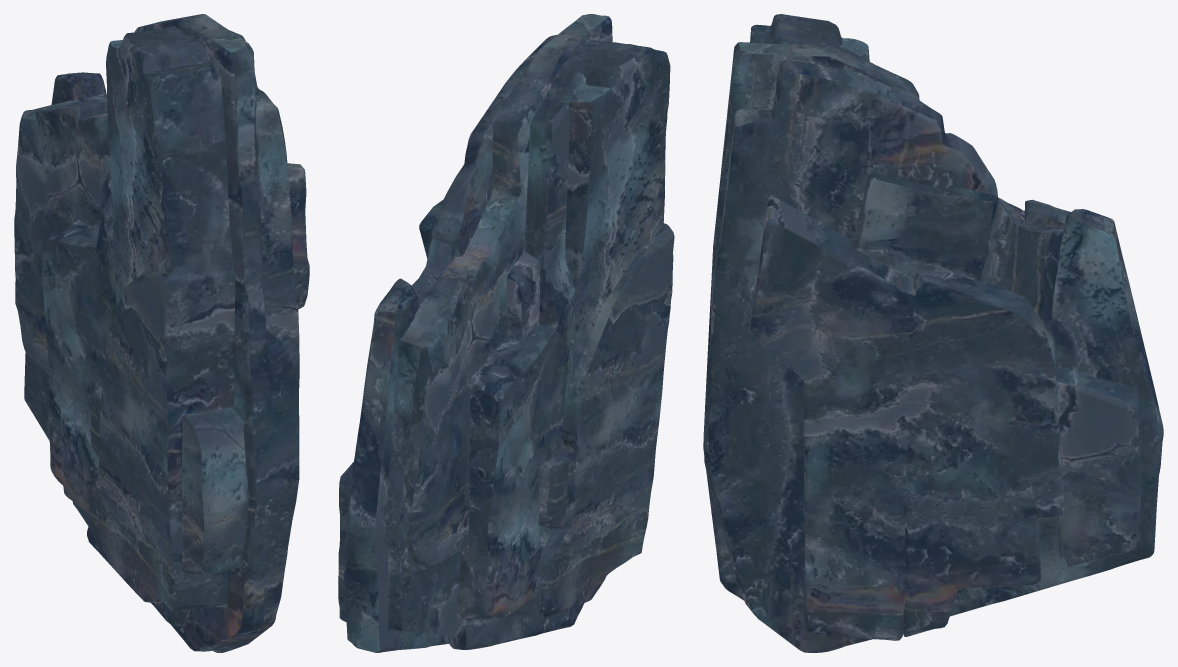
3 renders of one model, left to right at view 1: azimuth 30°, elevation 25°; view 2: azimuth 150°, elevation 25°; view 3: azimuth 270°, elevation 25°, orthographic. The views are drawn at different scales.
Parts seen in each view (by area): view 1: SM_Cave_Floor_02_LOD0; view 2: SM_Cave_Floor_02_LOD0; view 3: SM_Cave_Floor_02_LOD0.
Part boxes in pixels (x1,y1,x2,y2): SM_Cave_Floor_02_LOD0: (14,14,309,652); SM_Cave_Floor_02_LOD0: (338,14,674,652); SM_Cave_Floor_02_LOD0: (703,14,1163,652).
Bounding box in the file's own units: 1.49 × 5.5 × 3.87.
Materials: 1 (1 with a texture image).
